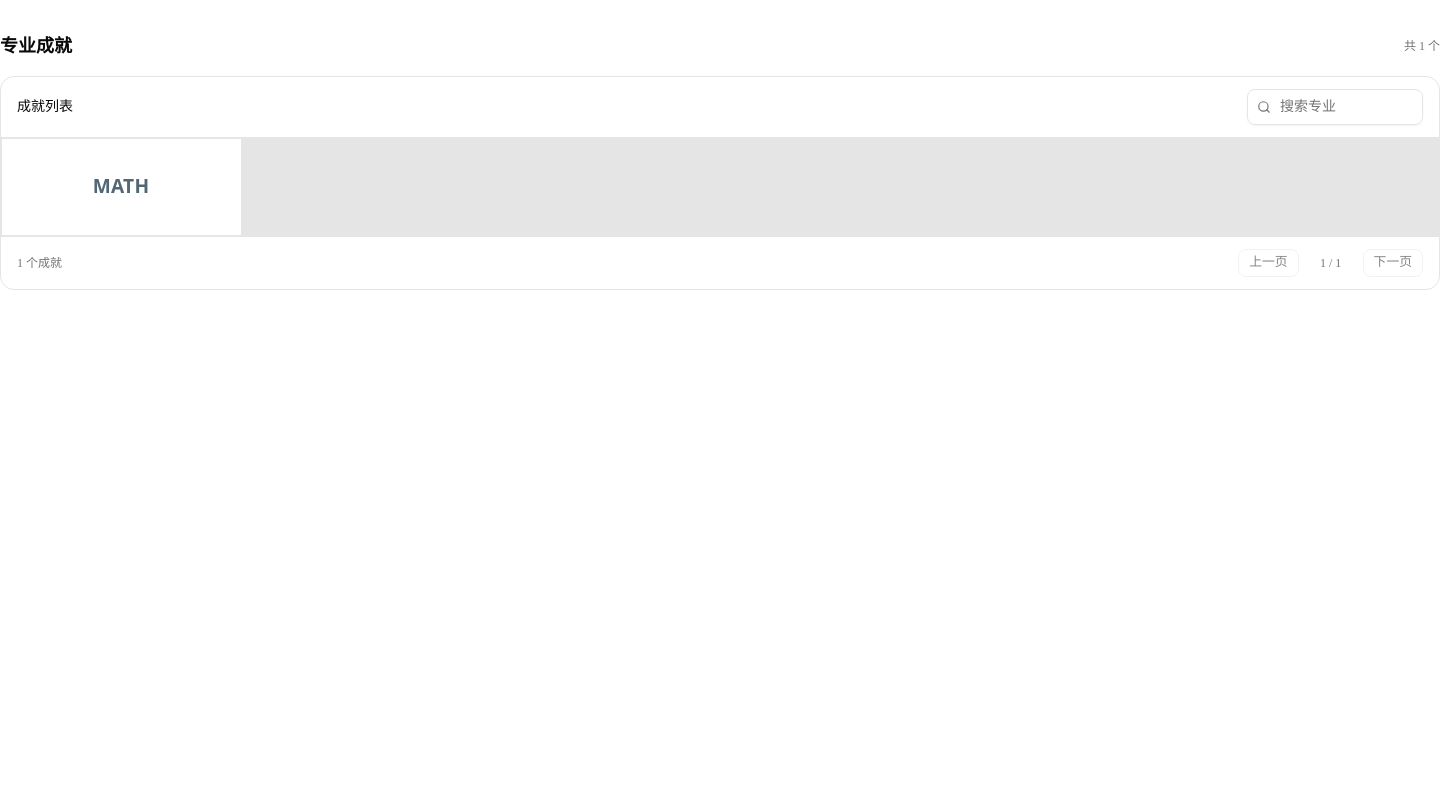
Test: ProfessionalAchievementInventory › does not offer to remove the current achievement from comment display
This screenshot has width=1440, height=810.
What coordinates should you click on to do the following:
click the button with aria-label "数学，已获得"
I would click on:
 (121, 187)
Its box is [2,139,240,235].
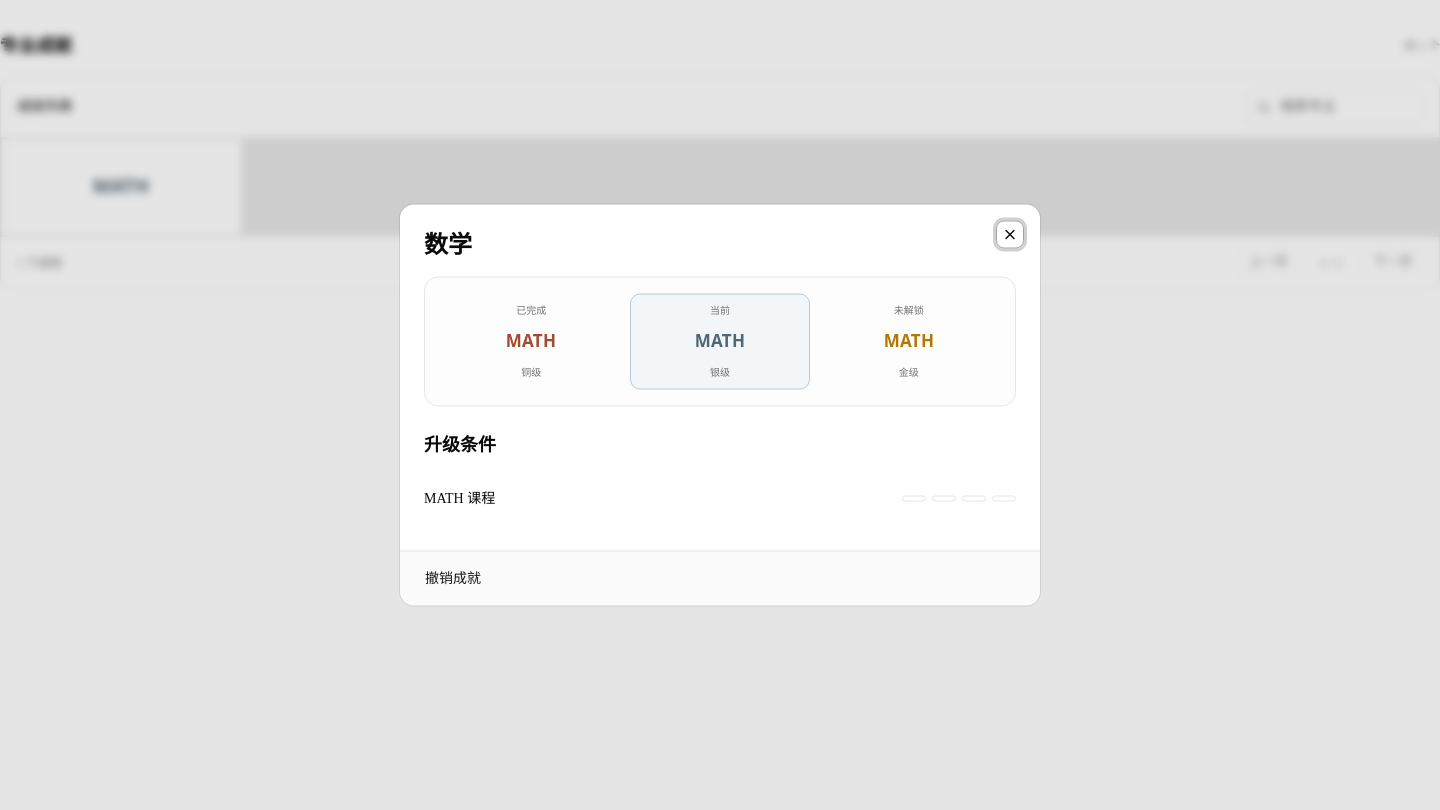
Check: the button "撤销成就" is shown, box [424,568,482,590]
